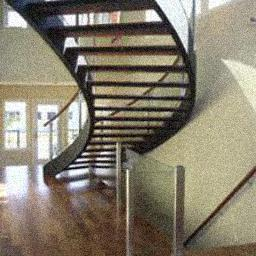Escaleras: (5, 0, 193, 189), (166, 178, 256, 256)
Puerta: (35, 101, 64, 163)
